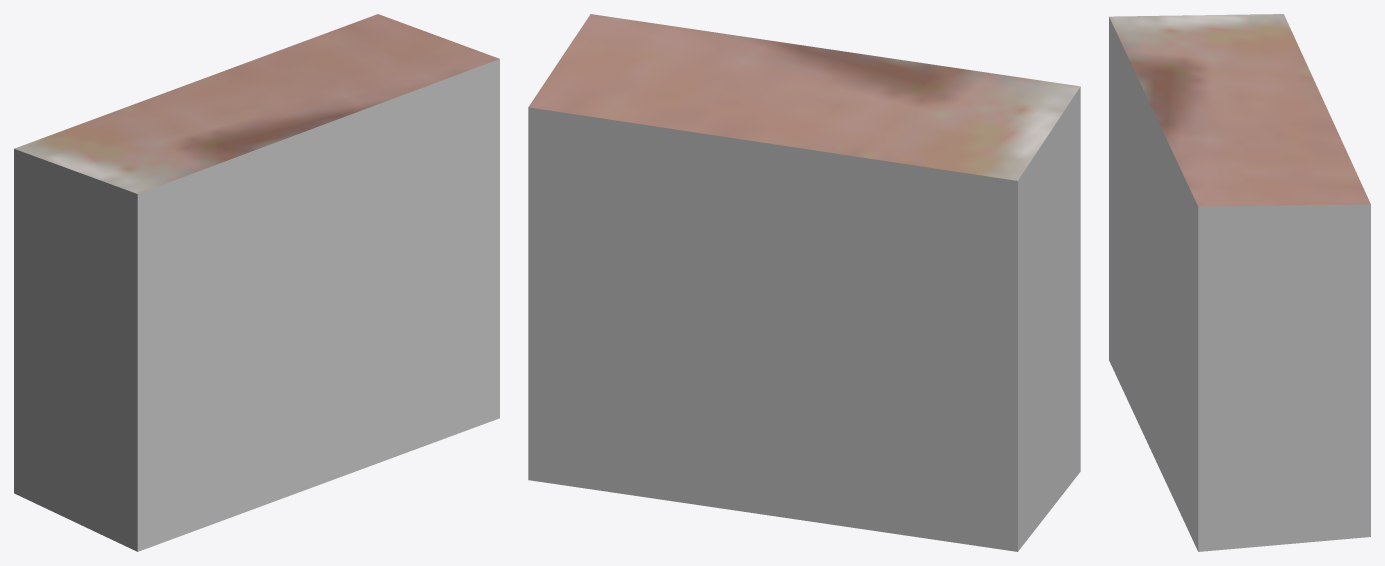
The model's file is DEBW_0010007Tx3l.gltf.
3 renders of one model, left to right at view 1: azimuth 30°, elevation 25°; view 2: azimuth 150°, elevation 25°; view 3: azimuth 270°, elevation 25°, orthographic. The views are drawn at different scales.
Visible parts, largest first — view 1: Z_UP; view 2: Z_UP; view 3: Z_UP.
Boxes of the visible parts, left/top/right/bottom form: Z_UP: left=14, top=14, right=499, bottom=551; Z_UP: left=528, top=14, right=1080, bottom=551; Z_UP: left=1109, top=14, right=1370, bottom=551.
Bounding box in the file's own units: 6.75 × 5.25 × 3.61.
Materials: 2 (1 with a texture image).
